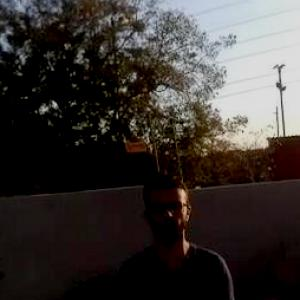follow: (110, 163, 254, 299)
